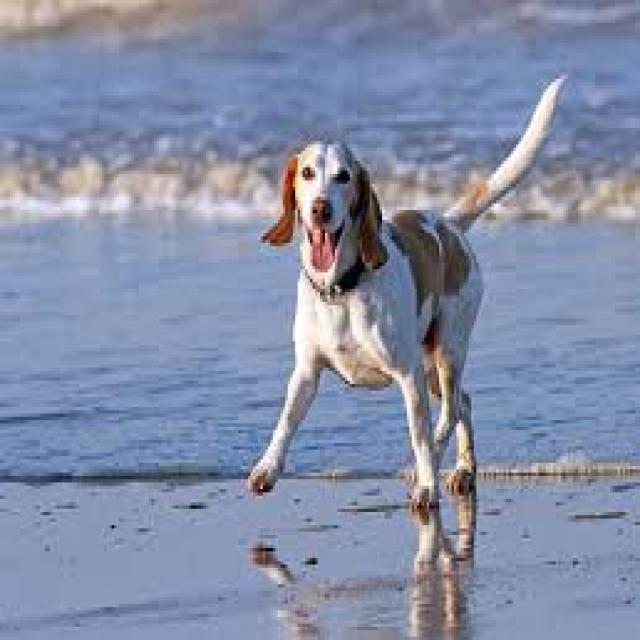Dog: (240, 65, 571, 518)
